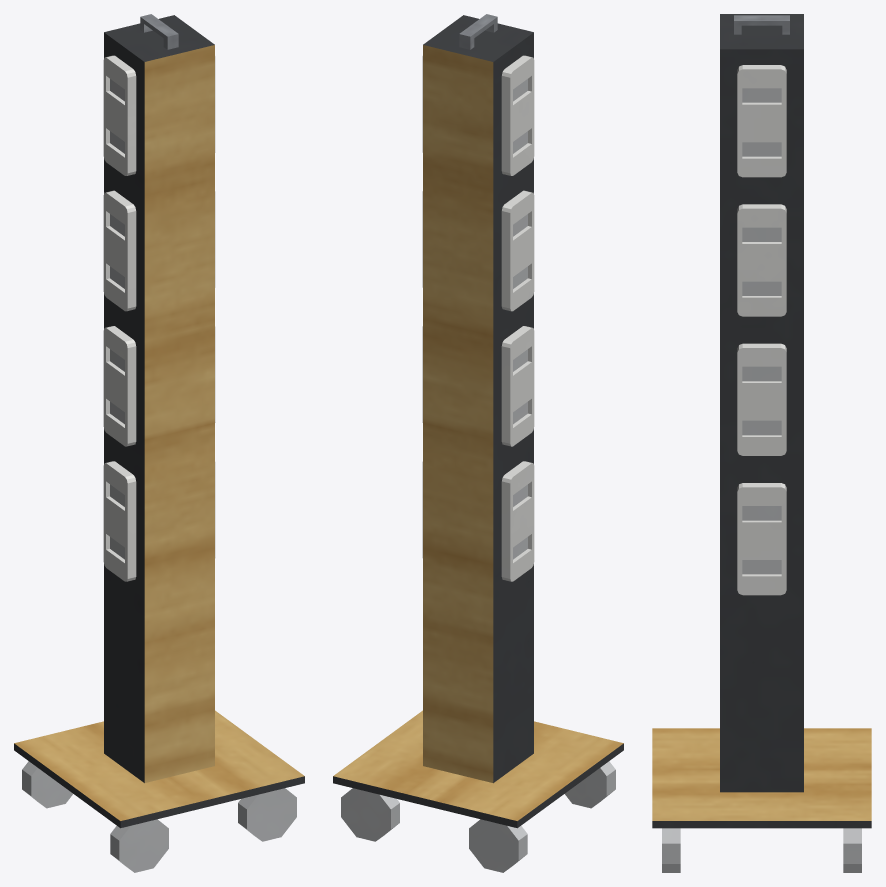
The model's file is SM_Torre Tomadas.fbx.
3 renders of one model, left to right at view 1: azimuth 30°, elevation 25°; view 2: azimuth 150°, elevation 25°; view 3: azimuth 270°, elevation 25°, orthographic. The views are drawn at different scales.
Visible parts, largest first — view 1: SM_Torre Tomadas; view 2: SM_Torre Tomadas; view 3: SM_Torre Tomadas.
Boxes of the visible parts, left/top/right/bottom form: SM_Torre Tomadas: left=14, top=14, right=304, bottom=872; SM_Torre Tomadas: left=333, top=14, right=623, bottom=872; SM_Torre Tomadas: left=652, top=14, right=871, bottom=872.
Size of the model in its own units: 20.09 by 82.65 by 20.09.
